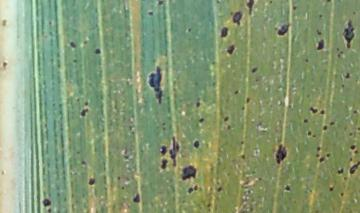tarspot: (147, 65, 164, 105), (168, 135, 181, 168), (342, 18, 355, 50), (274, 143, 288, 165), (180, 165, 197, 180), (276, 22, 291, 37), (349, 160, 360, 176), (232, 11, 242, 27), (224, 43, 236, 56), (314, 38, 325, 51), (219, 25, 229, 39), (245, 1, 254, 16), (160, 158, 169, 172), (41, 197, 52, 207), (79, 107, 89, 118), (159, 144, 167, 157), (132, 192, 141, 203), (87, 176, 96, 187), (192, 139, 201, 150), (308, 106, 318, 115), (1, 17, 9, 28), (1, 60, 8, 72), (336, 166, 345, 175), (343, 71, 352, 80), (283, 183, 291, 192), (317, 156, 326, 164), (315, 28, 323, 37), (156, 1, 166, 8), (186, 185, 193, 195), (93, 47, 101, 55), (250, 66, 258, 74), (197, 116, 205, 124), (305, 129, 313, 137), (222, 114, 229, 123), (79, 159, 88, 166), (303, 56, 310, 65), (122, 154, 131, 161), (69, 40, 76, 48), (146, 10, 154, 17), (328, 185, 335, 193), (216, 185, 223, 193), (349, 143, 356, 151), (233, 88, 240, 96), (209, 59, 217, 66), (319, 108, 325, 117), (193, 183, 199, 192), (240, 103, 246, 112), (324, 152, 331, 159), (205, 201, 212, 208), (352, 108, 359, 115), (291, 4, 298, 11), (45, 206, 52, 213), (334, 46, 341, 53), (128, 124, 135, 131), (302, 117, 308, 125), (322, 124, 328, 132), (328, 120, 336, 126), (315, 145, 321, 153), (245, 96, 251, 104), (195, 101, 201, 109), (225, 123, 231, 131), (348, 131, 354, 139), (72, 57, 78, 64), (186, 26, 192, 33), (83, 100, 89, 107), (240, 153, 246, 160), (116, 174, 122, 181), (120, 185, 126, 192), (318, 13, 324, 20), (351, 10, 358, 16), (74, 150, 82, 155), (82, 39, 88, 45), (161, 121, 167, 127), (339, 191, 344, 198), (239, 139, 244, 145), (340, 83, 346, 88), (267, 1, 273, 6), (47, 19, 52, 25), (214, 1, 221, 5), (336, 54, 341, 59), (161, 126, 166, 131), (356, 125, 360, 131), (324, 1, 332, 3)
